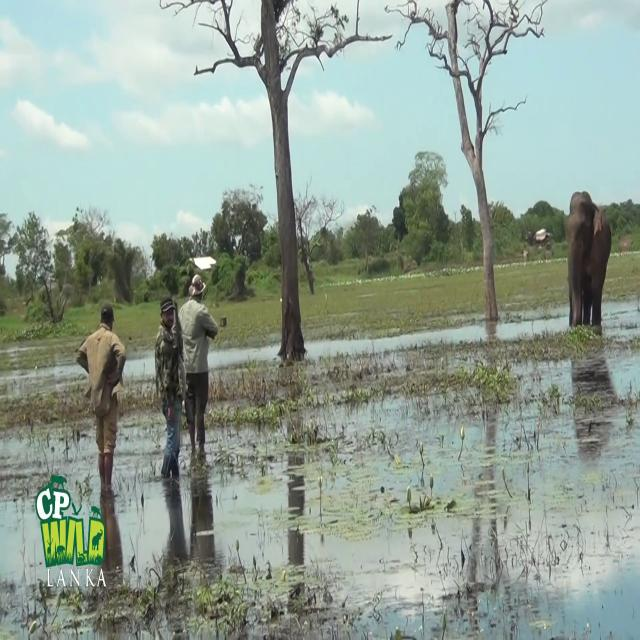Elephant: (566, 190, 612, 329)
person: (76, 303, 126, 492), (178, 274, 218, 458), (154, 295, 187, 478)
